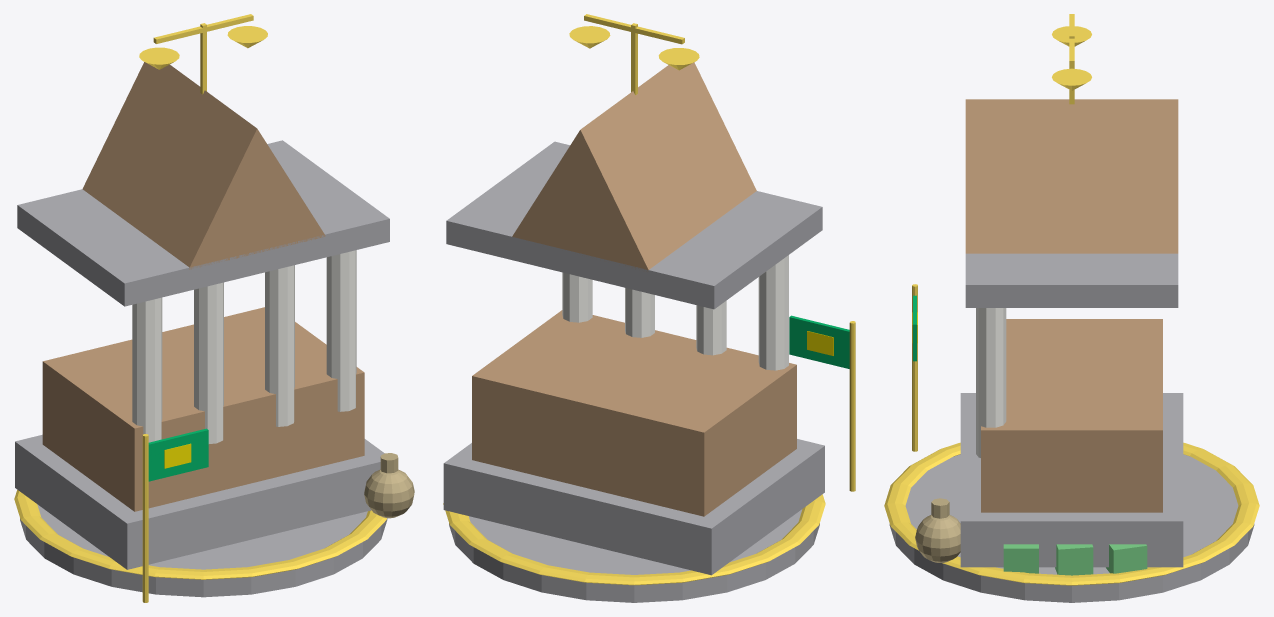
The model's file is Tribunal_L3.fbx.
3 renders of one model, left to right at view 1: azimuth 30°, elevation 25°; view 2: azimuth 150°, elevation 25°; view 3: azimuth 270°, elevation 25°, orthographic.
Parts seen in each view (by area): view 1: Tribunal_L3.001; view 2: Tribunal_L3.001; view 3: Tribunal_L3.001.
Boxes of the visible parts, bbox=[...] form: Tribunal_L3.001: bbox=[14, 14, 414, 602]; Tribunal_L3.001: bbox=[443, 14, 855, 602]; Tribunal_L3.001: bbox=[884, 14, 1259, 602].
Bounding box in the file's own units: 3.71 × 5.35 × 3.71.
